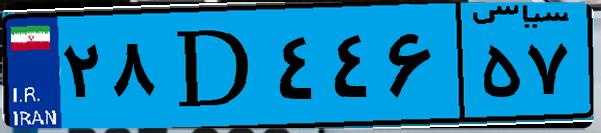2: (57, 26, 110, 100)
4: (270, 28, 330, 110), (330, 28, 385, 110)
5: (475, 38, 525, 113)
6: (385, 28, 445, 110)
7: (525, 38, 570, 115)
8: (110, 28, 158, 98)
D: (158, 12, 270, 120)
